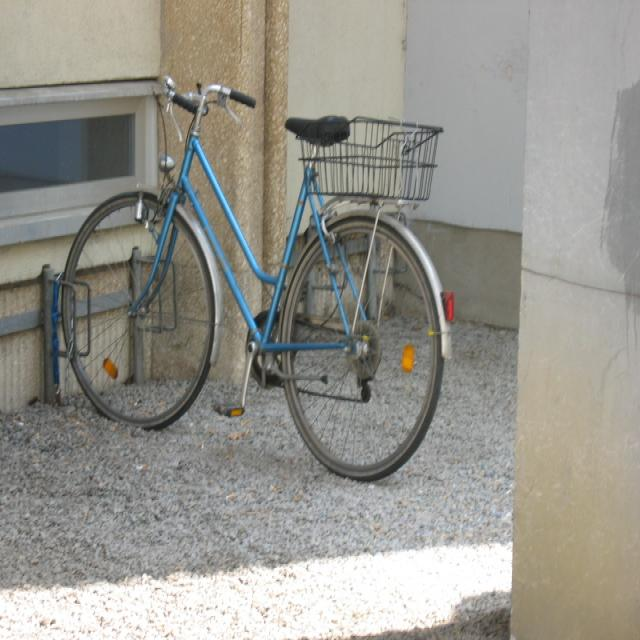bicycle: (55, 75, 453, 481)
